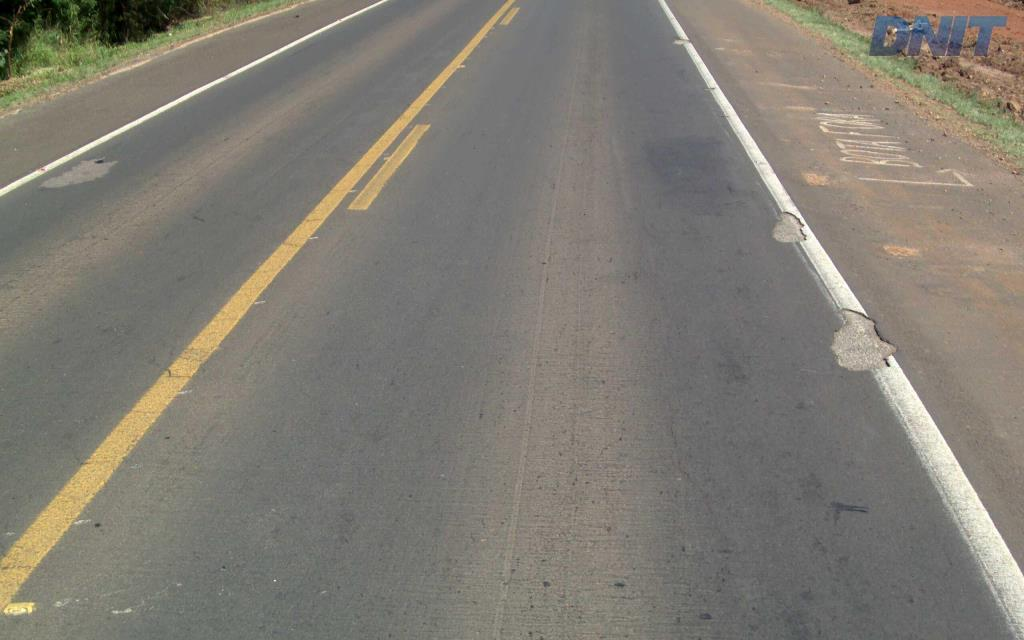pothole: (826, 301, 896, 376), (763, 210, 805, 245)
